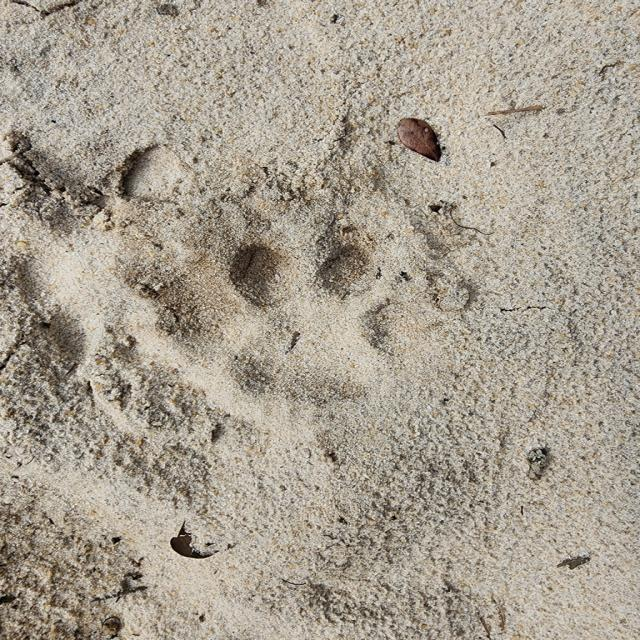felid: (174, 245, 434, 409)
